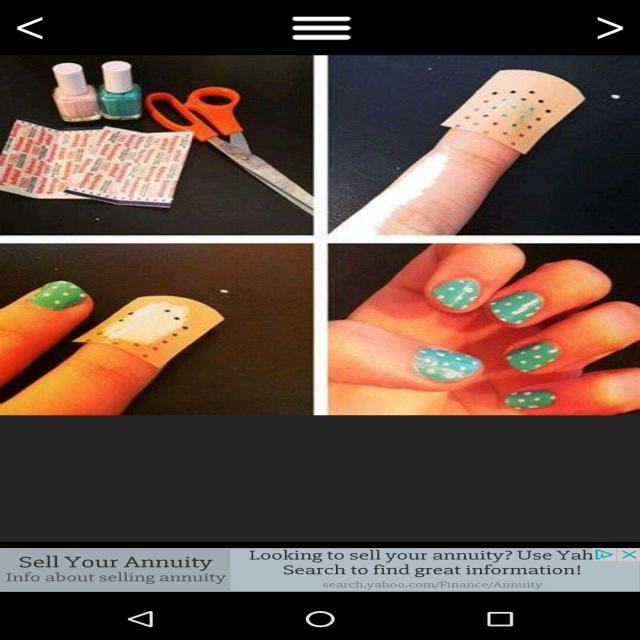button: (270, 3, 400, 52), (7, 5, 74, 49), (583, 6, 640, 46)
icon: (292, 12, 373, 44), (18, 12, 64, 43), (585, 12, 629, 42)
image: (1, 54, 316, 235), (335, 58, 640, 242), (330, 244, 634, 418), (7, 242, 312, 414)
text: (1, 548, 640, 592)
